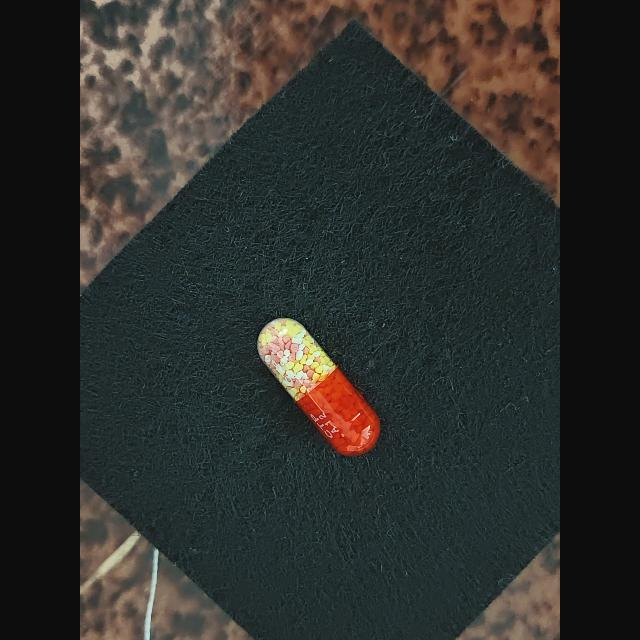Intact Capsule: (257, 318, 380, 457)
